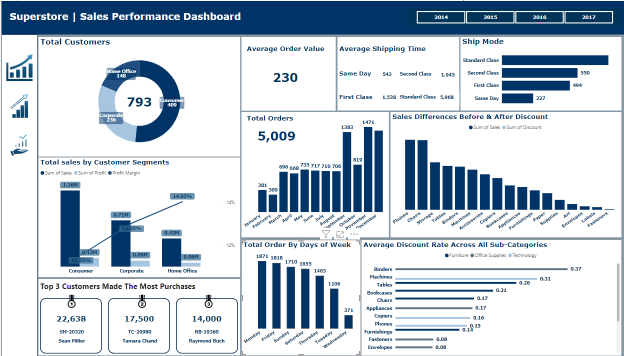

Layout of this report page (visuals, bound fields, positions):
{"tool":"powerbi","page":{"name":"3","canvas":[1750,1000],"ordinal":2},"visuals":[{"type":"shape","box":[0,93.8,100.5,906.5],"z":0},{"type":"shape","box":[0,0,1749.3,93.8],"z":1000},{"type":"textbox","box":[11,20.6,671,63.1],"z":2000},{"type":"slicer","fields":{"Values":["Orders.Order Date.Variation.Date Hierarchy.Year"]},"box":[1137.7,21,599.7,49],"z":3000},{"type":"shape","box":[103.9,779.2,564.7,214.5],"z":4000},{"type":"shape","box":[672,100.5,264,206.5],"z":5000},{"type":"shape","box":[941,100.5,341,206],"z":6000},{"type":"barChart","title":"Ship Mode","fields":{"Category":["Orders.Ship Mode"],"Y":["Orders.Customer ID"]},"box":[1286.9,100.5,450.7,206.1],"z":7000},{"type":"columnChart","fields":{"Y":["Orders.Order ID"],"Category":["Orders.Order Date.Variation.Date Hierarchy.Month"]},"box":[672.5,311.6,413.3,351.3],"z":8000},{"type":"columnChart","title":"Sales Differences Before & After  Discount","fields":{"Category":["Orders.Sub-Category"],"Y":["Orders.Sales","Orders.Discount"]},"box":[1090.6,311.6,647,351.3],"z":9000},{"type":"columnChart","title":"Total Order By Days of Week","fields":{"Y":["Orders.Customer ID"],"Category":["Orders.Weekday"]},"box":[672.5,669.3,333.8,324.3],"z":10000},{"type":"clusteredBarChart","title":"Average Discount Rate Across All Sub-Categories","fields":{"Y":["Orders.Discount"],"Category":["Orders.Sub-Category"],"Series":["Orders.Category"]},"box":[1009.5,669.3,728.1,324.3],"z":11000},{"type":"donutChart","title":"Total Customers","fields":{"Category":["Orders.Segment"],"Y":["Orders.Customer ID"]},"box":[103.9,100.5,564.7,335.1],"z":12000},{"type":"lineClusteredColumnComboChart","title":"Total sales by Customer Segments","fields":{"Category":["Orders.Segment"],"Y":["Orders.Sales","Orders.Profit"],"Y2":["Orders.Profit Margin"]},"box":[103.9,439,564.7,335.1],"z":13000},{"type":"card","fields":{"Values":["Orders.Sales"]},"box":[712,179,167,70],"z":14000},{"type":"textbox","box":[682,116.1,246.4,39.7],"z":15000},{"type":"card","fields":{"Values":["Orders.Order ID"]},"box":[682,351.3,176.5,54.1],"z":16000},{"type":"textbox","box":[682,311.6,165.3,39.7],"z":17000},{"type":"textbox","box":[103.3,778.7,565.3,40],"z":18000},{"type":"shape","box":[107.9,831.6,173.7,155.8],"z":19000},{"type":"shape","box":[298.9,831.6,173.7,155.8],"z":20000},{"type":"shape","box":[488.9,831.6,173.7,155.8],"z":21000},{"type":"image","box":[148.1,818.8,95.6,46.9],"z":22000},{"type":"image","box":[346.2,818.8,95.6,46.9],"z":23000},{"type":"image","box":[533.1,818.8,95.6,46.9],"z":24000},{"type":"card","fields":{"Values":["Parameter.Top 1 Sales"]},"box":[115,865.6,160.6,50],"z":25000},{"type":"card","fields":{"Values":["Parameter.Top 1 Customer ID"]},"box":[115.6,915,160.6,25],"z":26000},{"type":"card","fields":{"Values":["Parameter.Top 1 Customer Name"]},"box":[115.6,940,160.6,25],"z":27000},{"type":"card","fields":{"Values":["Parameter.Top 2 Sales"]},"box":[305.6,865.6,160.6,50],"z":28000},{"type":"card","fields":{"Values":["Parameter.Top 3 Sales"]},"box":[495,865.6,160.6,50],"z":29000},{"type":"card","fields":{"Values":["Parameter.Top 2 Customer ID"]},"box":[306.2,915,160.6,25],"z":30000},{"type":"card","fields":{"Values":["Parameter.Top 3 Customer ID"]},"box":[495,915,160.6,25],"z":31000},{"type":"card","fields":{"Values":["Parameter.Top 2 Customer Name"]},"box":[306.9,940,160.6,25],"z":32000},{"type":"card","fields":{"Values":["Parameter.Top 3 Customer Name"]},"box":[495,940,160.6,25],"z":33000},{"type":"card","title":"Same Day","fields":{"Values":["Orders.Ship Mode"]},"box":[1033.9,248.9,103.9,46.7],"z":35000},{"type":"card","title":"Same Day","fields":{"Values":["Orders.Ship Mode"]},"box":[1028.4,184.9,103.7,46.2],"z":36000},{"type":"card","title":"Same Day","fields":{"Values":["Orders.Ship Mode"]},"box":[1219,189.2,63.1,40.6],"z":37000},{"type":"card","title":"Same Day","fields":{"Values":["Orders.Ship Mode"]},"box":[1212.2,252.2,71.1,40],"z":38000},{"type":"textbox","box":[941.2,115.6,278.1,39.4],"z":39000},{"type":"textbox","box":[942.2,187.8,125.6,28.9],"z":40000},{"type":"textbox","box":[941.1,253.9,125.6,28.9],"z":41000},{"type":"textbox","box":[1111.7,253.9,119.4,28.9],"z":42000},{"type":"textbox","box":[1111.7,188.9,119.4,28.9],"z":43000},{"type":"card","fields":{"Values":["Orders.Customer Name"]},"box":[330.2,253.3,110.7,58.2],"z":44000},{"type":"image","box":[5.6,144.3,88.3,85.5],"z":45000},{"type":"image","box":[5.7,256.4,88.2,75.8],"z":46000},{"type":"image","box":[5.5,369.8,88.5,68.7],"z":47000}]}

Visuals, with their boxes in screenshot pixels (x1, y1, x2, y2), scaled from the page's 1750x1000 canvas onto the 624x356 screenshot:
shape: left=0, top=33, right=36, bottom=355
shape: left=0, top=0, right=623, bottom=33
textbox: left=4, top=7, right=243, bottom=30
slicer - Orders.Order Date.Variation.Date Hierarchy.Year: left=406, top=7, right=620, bottom=25
shape: left=37, top=277, right=238, bottom=354
shape: left=240, top=36, right=334, bottom=109
shape: left=336, top=36, right=457, bottom=109
"Ship Mode" barChart: left=459, top=36, right=620, bottom=109
columnChart - Orders.Order ID x Orders.Order Date.Variation.Date Hierarchy.Month: left=240, top=111, right=387, bottom=236
"Sales Differences Before & After  Discount" columnChart: left=389, top=111, right=620, bottom=236
"Total Order By Days of Week" columnChart: left=240, top=238, right=359, bottom=354
"Average Discount Rate Across All Sub-Categories" clusteredBarChart: left=360, top=238, right=620, bottom=354
"Total Customers" donutChart: left=37, top=36, right=238, bottom=155
"Total sales by Customer Segments" lineClusteredColumnComboChart: left=37, top=156, right=238, bottom=276
card - Orders.Sales: left=254, top=64, right=313, bottom=89
textbox: left=243, top=41, right=331, bottom=55
card - Orders.Order ID: left=243, top=125, right=306, bottom=144
textbox: left=243, top=111, right=302, bottom=125
textbox: left=37, top=277, right=238, bottom=291
shape: left=38, top=296, right=100, bottom=352
shape: left=107, top=296, right=169, bottom=352
shape: left=174, top=296, right=236, bottom=352
image: left=53, top=291, right=87, bottom=308
image: left=123, top=291, right=158, bottom=308
image: left=190, top=291, right=224, bottom=308
card - Parameter.Top 1 Sales: left=41, top=308, right=98, bottom=326
card - Parameter.Top 1 Customer ID: left=41, top=326, right=98, bottom=335
card - Parameter.Top 1 Customer Name: left=41, top=335, right=98, bottom=344
card - Parameter.Top 2 Sales: left=109, top=308, right=166, bottom=326
card - Parameter.Top 3 Sales: left=177, top=308, right=234, bottom=326
card - Parameter.Top 2 Customer ID: left=109, top=326, right=166, bottom=335
card - Parameter.Top 3 Customer ID: left=177, top=326, right=234, bottom=335
card - Parameter.Top 2 Customer Name: left=109, top=335, right=167, bottom=344
card - Parameter.Top 3 Customer Name: left=177, top=335, right=234, bottom=344
"Same Day" card: left=369, top=89, right=406, bottom=105
"Same Day" card: left=367, top=66, right=404, bottom=82
"Same Day" card: left=435, top=67, right=457, bottom=82
"Same Day" card: left=432, top=90, right=458, bottom=104
textbox: left=336, top=41, right=435, bottom=55
textbox: left=336, top=67, right=381, bottom=77
textbox: left=336, top=90, right=380, bottom=101
textbox: left=396, top=90, right=439, bottom=101
textbox: left=396, top=67, right=439, bottom=78
card - Orders.Customer Name: left=118, top=90, right=157, bottom=111
image: left=2, top=51, right=33, bottom=82
image: left=2, top=91, right=33, bottom=118
image: left=2, top=132, right=34, bottom=156
